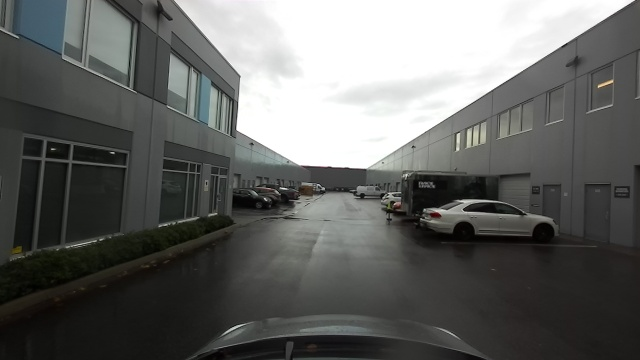car: (421, 198, 560, 246), (234, 188, 270, 208), (354, 185, 386, 199), (274, 184, 295, 203), (380, 191, 400, 208)
